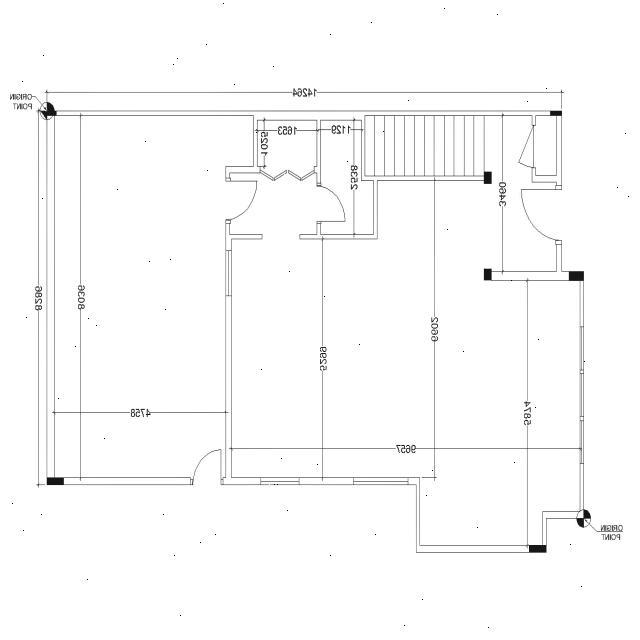Column: (569, 271, 584, 281), (528, 545, 546, 553), (47, 478, 64, 486), (484, 269, 492, 281), (484, 172, 492, 184), (550, 111, 562, 116), (46, 111, 56, 116)
Door: (521, 185, 562, 245), (225, 178, 258, 224), (190, 446, 223, 486), (316, 182, 346, 225), (518, 125, 536, 168)
Sliding Door: (260, 166, 318, 182)
Staircase: (365, 116, 484, 176)
Window: (261, 477, 408, 485), (261, 478, 299, 486), (226, 250, 232, 296), (580, 326, 584, 371), (580, 373, 584, 417), (580, 421, 584, 464)
